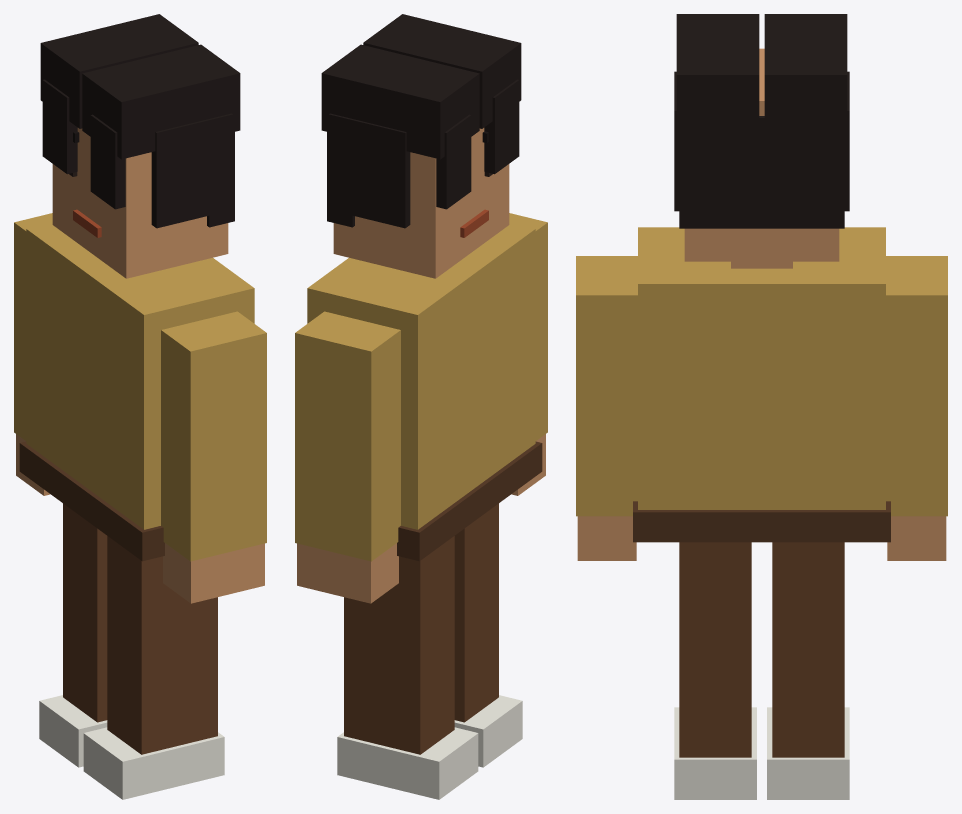
The model's file is walker_5.glb.
The picture shows the model from 3 angles, left to right: view 1: azimuth 30°, elevation 25°; view 2: azimuth 150°, elevation 25°; view 3: azimuth 270°, elevation 25°; orthographic projection. The views are drawn at different scales.
Visible parts, largest first — view 1: Box9, Box3, Box1, Box18, Box12, Box5, Box20, Box21, Box2, Box10, Box4, Box7 (+4 smaller); view 2: Box9, Box7, Box5, Box21, Box12, Box1, Box23, Box18, Box6, Box10, Box8, Box3 (+4 smaller); view 3: Box9, Box3, Box7, Box1, Box5, Box24, Box18, Box21, Box10, Box12, Box2, Box6 (+4 smaller).
Part boxes in pixels (left/top/right/bottom): Box9: left=26, top=222, right=254, bottom=529; Box3: left=161, top=311, right=266, bottom=561; Box1: left=107, top=536, right=217, bottom=754; Box18: left=82, top=44, right=240, bottom=159; Box12: left=52, top=128, right=228, bottom=278; Box5: left=63, top=503, right=107, bottom=722; Box20: left=151, top=113, right=232, bottom=228; Box21: left=40, top=14, right=198, bottom=128; Box2: left=83, top=727, right=224, bottom=799; Box10: left=19, top=441, right=164, bottom=561; Box4: left=163, top=543, right=264, bottom=603; Box7: left=14, top=213, right=52, bottom=440; Box9: left=307, top=222, right=535, bottom=529; Box7: left=295, top=311, right=400, bottom=561; Box5: left=344, top=536, right=454, bottom=754; Box21: left=321, top=44, right=479, bottom=159; Box12: left=333, top=128, right=509, bottom=278; Box1: left=454, top=503, right=498, bottom=722; Box23: left=329, top=113, right=410, bottom=228; Box18: left=363, top=14, right=521, bottom=128; Box6: left=337, top=727, right=478, bottom=799; Box10: left=397, top=441, right=542, bottom=561; Box8: left=297, top=543, right=398, bottom=603; Box3: left=509, top=213, right=547, bottom=440; Box9: left=638, top=227, right=885, bottom=509; Box3: left=576, top=256, right=637, bottom=516; Box7: left=886, top=256, right=947, bottom=516; Box1: left=679, top=542, right=751, bottom=757; Box5: left=772, top=542, right=844, bottom=757; Box24: left=679, top=116, right=844, bottom=228; Box18: left=676, top=14, right=759, bottom=135; Box21: left=764, top=14, right=847, bottom=135; Box10: left=633, top=501, right=890, bottom=542; Box12: left=684, top=48, right=839, bottom=261; Box2: left=674, top=707, right=756, bottom=799; Box6: left=767, top=707, right=849, bottom=799.
Bounding box in the file's own units: 0.3232 × 1.78 × 0.8165.
